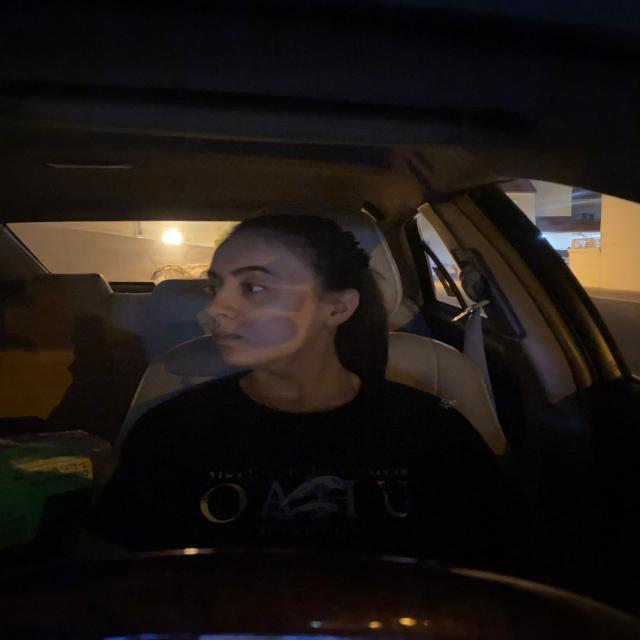LeftRight: (175, 211, 372, 431)
